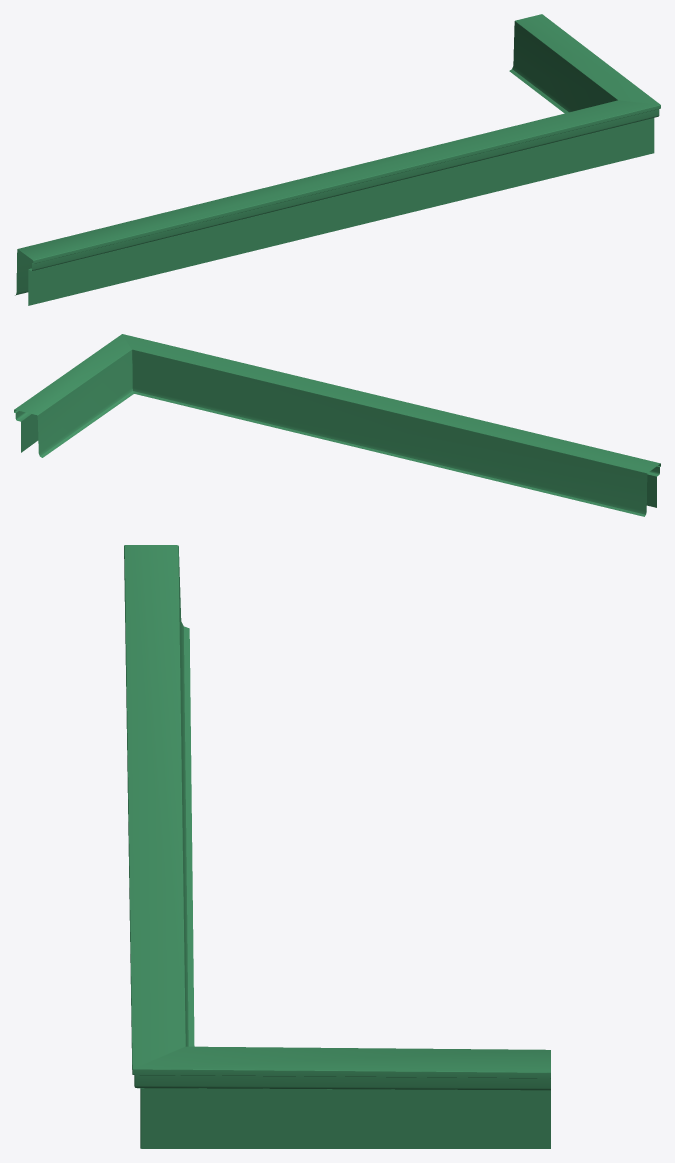
File: GS_Ext_Roof_Trim_Corner_03.fbx
The picture shows the model from 3 angles, top to bottom: view 1: azimuth 30°, elevation 25°; view 2: azimuth 150°, elevation 25°; view 3: azimuth 270°, elevation 25°; orthographic projection. The views are drawn at different scales.
Visible parts, largest first — view 1: GS_Ext_Roof_Trim_Corner_03; view 2: GS_Ext_Roof_Trim_Corner_03; view 3: GS_Ext_Roof_Trim_Corner_03.
Boxes of the visible parts, x1=… form: GS_Ext_Roof_Trim_Corner_03: x1=15, y1=14, x2=660, y2=305; GS_Ext_Roof_Trim_Corner_03: x1=14, y1=334, x2=660, y2=516; GS_Ext_Roof_Trim_Corner_03: x1=124, y1=545, x2=550, y2=1148.
Bounding box in the file's own units: 760 × 56 × 260.
